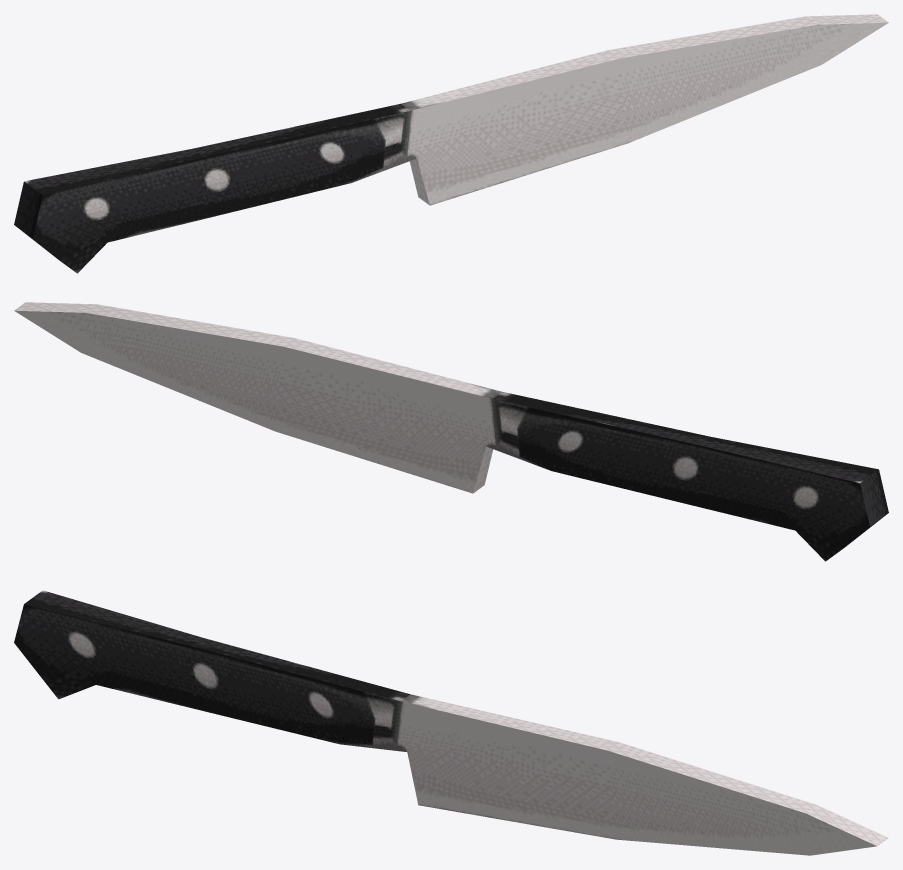
File: knife.fbx
The picture shows the model from 3 angles, top to bottom: view 1: azimuth 30°, elevation 25°; view 2: azimuth 150°, elevation 25°; view 3: azimuth 330°, elevation 25°; orthographic projection.
Parts seen in each view (by area): view 1: knife; view 2: knife; view 3: knife.
Boxes of the visible parts, x1,y1,x2,y2 form: knife: (14,14,888,273); knife: (14,302,888,561); knife: (14,590,888,855).
Size of the model in its own units: 42.83 by 5.16 by 1.64.
